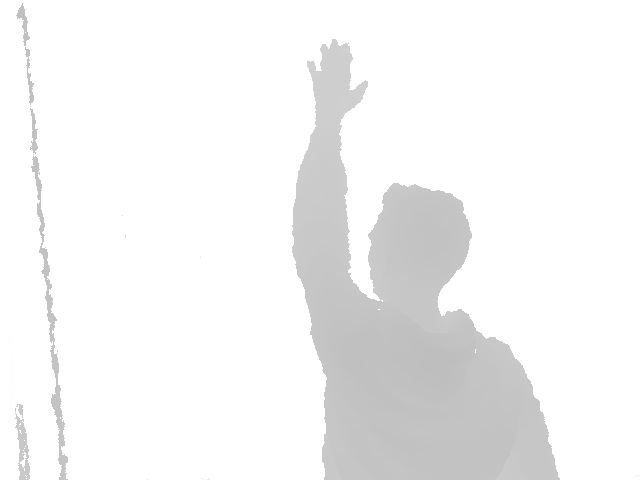hand: (307, 39, 369, 125)
head: (367, 183, 472, 297)
person: (291, 39, 559, 480)
